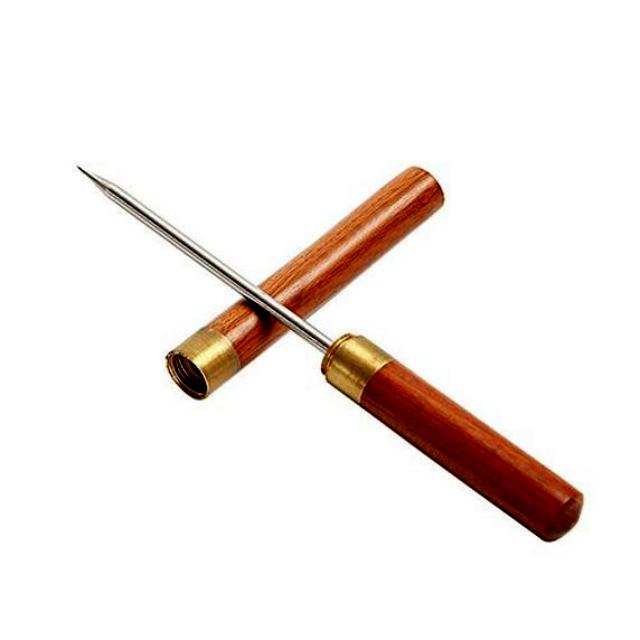ice pick: (74, 162, 590, 548)
